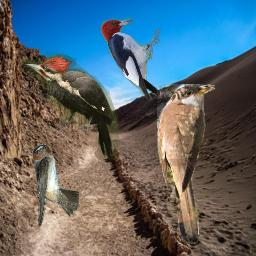Cuckoo: (157, 84, 215, 244)
Swallow: (32, 144, 79, 229)
Woodpecker: (22, 52, 122, 160), (99, 16, 164, 101)
